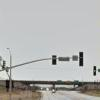Traffic light: (41, 48, 90, 74)
